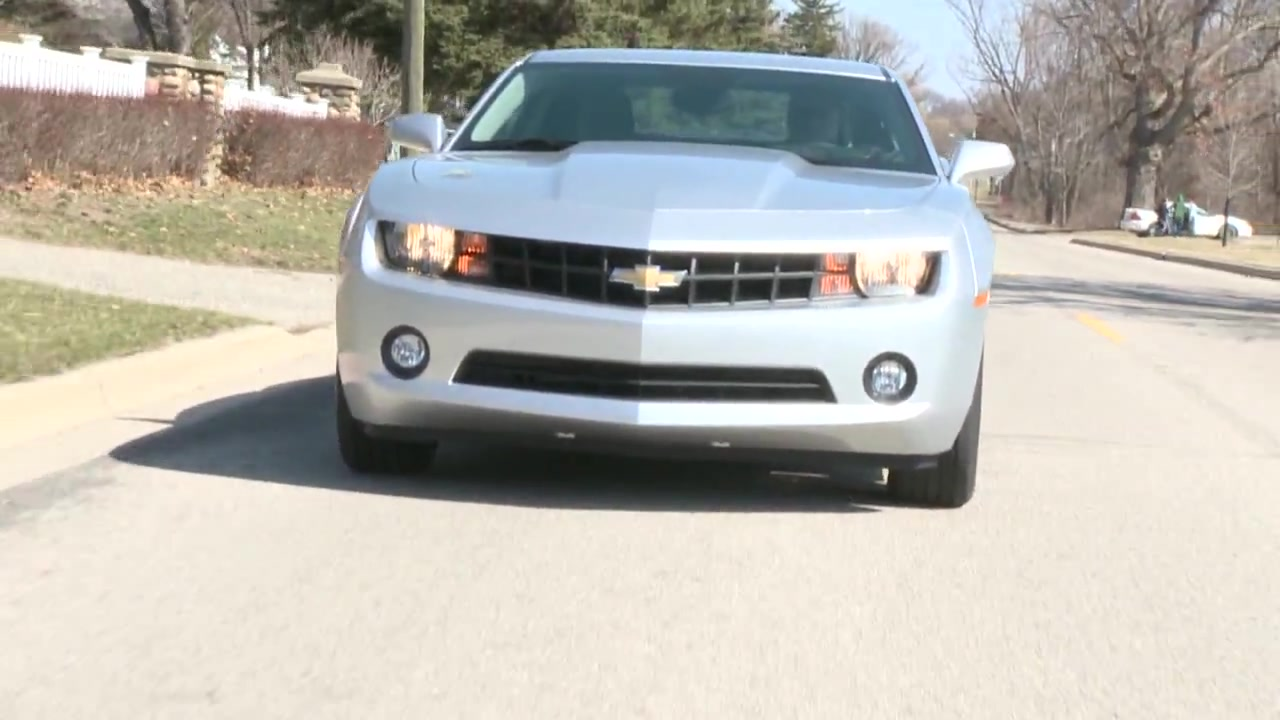car: (334, 42, 1020, 509)
